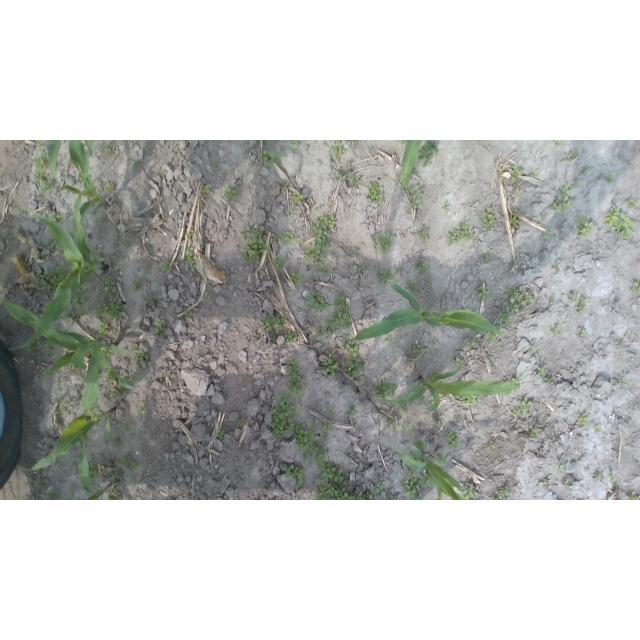Maize: (8, 186, 107, 358), (18, 336, 117, 474), (2, 298, 135, 391), (355, 281, 501, 340), (382, 365, 525, 412), (390, 444, 466, 500), (47, 140, 96, 188), (79, 433, 114, 500), (400, 140, 424, 189)
Weeds: (294, 421, 329, 463), (314, 461, 349, 500), (269, 393, 296, 441), (604, 206, 636, 241), (312, 212, 338, 253), (240, 226, 269, 262), (502, 284, 535, 313), (284, 360, 308, 399), (39, 265, 68, 295), (324, 308, 352, 334), (281, 462, 307, 490), (447, 220, 475, 244), (549, 184, 573, 212), (258, 312, 286, 335), (417, 141, 440, 168), (93, 301, 121, 322), (574, 211, 595, 238), (372, 231, 395, 255), (33, 171, 55, 194), (374, 380, 396, 402), (116, 452, 138, 474), (403, 477, 424, 500), (305, 292, 329, 312), (342, 166, 363, 188), (568, 293, 589, 315), (345, 358, 365, 381), (405, 184, 423, 209), (479, 207, 497, 230), (258, 148, 282, 165), (303, 246, 326, 263), (64, 309, 88, 325), (323, 354, 339, 377), (100, 275, 119, 294), (109, 379, 128, 398), (343, 338, 360, 359), (366, 182, 382, 204), (71, 289, 89, 308), (509, 165, 526, 185), (32, 153, 50, 171), (153, 319, 170, 337), (415, 223, 430, 243), (376, 268, 393, 285), (515, 396, 533, 412), (506, 377, 522, 395), (331, 140, 345, 160), (333, 293, 350, 309), (445, 432, 461, 449), (26, 479, 45, 493), (490, 487, 510, 500), (460, 484, 476, 500), (282, 230, 300, 244), (26, 339, 40, 357), (43, 339, 57, 357), (42, 489, 64, 500), (414, 262, 432, 275), (497, 310, 509, 328), (43, 237, 57, 252), (136, 351, 151, 365), (223, 187, 238, 201), (542, 227, 557, 241), (58, 403, 74, 416), (185, 247, 196, 265), (49, 213, 67, 224), (476, 286, 490, 300), (87, 463, 100, 478), (349, 492, 373, 500), (288, 271, 301, 285), (291, 190, 304, 204), (421, 473, 436, 485), (460, 395, 478, 405), (284, 332, 298, 344), (577, 412, 589, 426), (160, 262, 175, 273), (631, 279, 640, 297), (452, 356, 465, 368), (274, 257, 286, 270), (375, 480, 388, 492), (464, 336, 477, 348), (413, 344, 428, 354), (105, 492, 121, 501), (528, 428, 540, 440), (313, 328, 324, 341), (566, 151, 578, 162), (605, 172, 616, 184), (414, 440, 426, 451), (111, 472, 122, 484), (407, 280, 418, 292), (488, 330, 500, 341), (510, 215, 521, 227), (318, 262, 328, 275), (435, 455, 446, 466), (385, 417, 396, 428), (410, 453, 422, 463), (102, 346, 114, 356), (98, 322, 108, 334), (135, 402, 147, 412), (214, 427, 226, 437), (576, 328, 588, 338), (441, 200, 451, 212), (52, 395, 62, 406), (279, 180, 290, 190), (558, 463, 568, 474), (233, 418, 245, 427), (347, 404, 357, 414), (103, 372, 113, 382), (200, 184, 210, 194), (595, 471, 604, 482), (627, 199, 639, 207), (34, 254, 46, 262), (385, 493, 398, 500), (132, 280, 141, 290), (54, 379, 63, 389), (105, 183, 115, 192), (510, 409, 520, 418), (553, 323, 562, 333), (69, 487, 77, 498), (120, 426, 131, 434), (629, 492, 640, 500), (131, 160, 140, 169), (528, 345, 537, 354), (397, 264, 407, 272), (290, 140, 300, 148), (536, 366, 544, 376), (95, 212, 102, 223), (554, 264, 561, 275), (103, 146, 112, 154), (186, 230, 195, 238), (12, 228, 20, 237), (435, 416, 441, 428), (383, 334, 392, 342), (571, 181, 581, 188), (553, 140, 564, 146), (36, 140, 44, 148), (272, 234, 280, 242), (487, 442, 495, 450), (51, 410, 59, 418), (544, 377, 552, 385), (485, 252, 492, 261), (403, 425, 410, 434), (584, 167, 593, 174), (184, 310, 193, 317), (400, 410, 408, 417), (74, 466, 81, 474), (610, 476, 617, 484), (540, 212, 548, 219), (407, 467, 414, 474), (530, 171, 537, 178), (550, 296, 556, 304), (620, 380, 628, 386), (498, 168, 504, 176), (360, 263, 365, 272), (264, 140, 273, 145), (271, 337, 277, 344), (353, 248, 360, 254), (212, 160, 217, 168), (542, 478, 550, 483), (511, 259, 517, 265), (333, 173, 339, 179), (328, 406, 334, 412), (432, 372, 439, 377), (352, 141, 359, 146), (287, 210, 293, 215), (564, 481, 568, 485), (596, 428, 600, 432)
